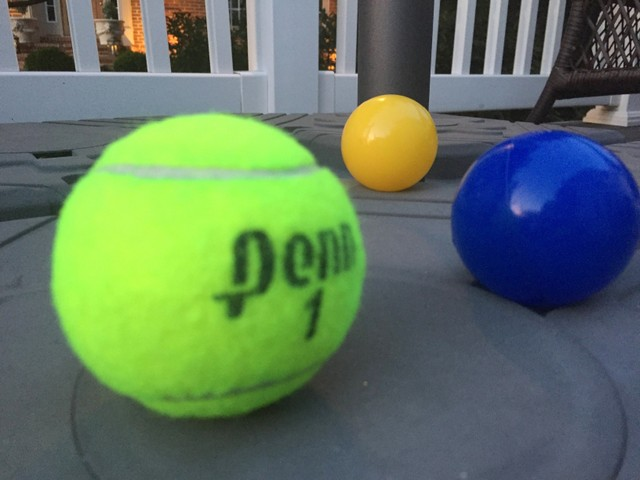Ball: (452, 129, 635, 312)
